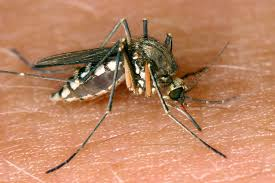dengue_mosquito: (4, 18, 215, 150)
